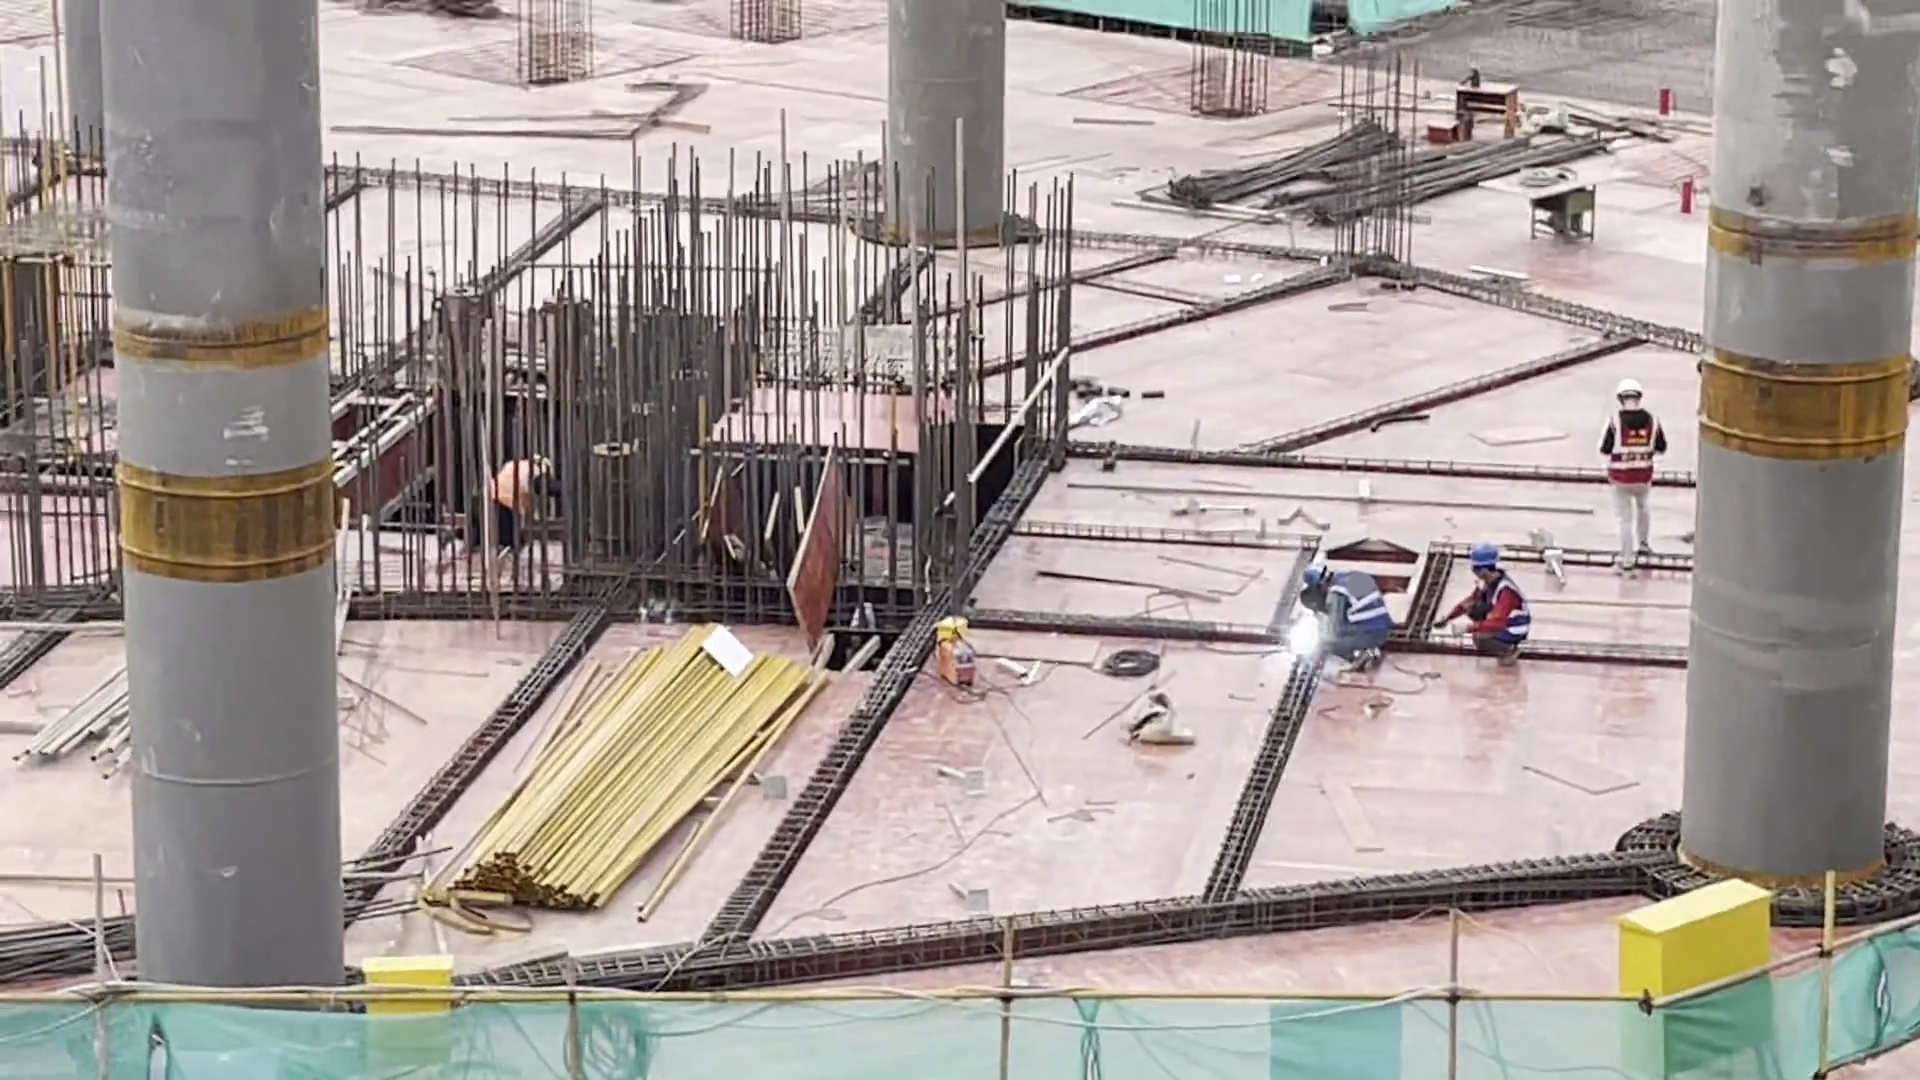helmet: (1470, 542, 1499, 568), (1303, 560, 1328, 587), (1615, 378, 1642, 399)
person: (1600, 373, 1669, 588), (1428, 539, 1531, 668), (1308, 557, 1395, 676), (475, 445, 560, 546)
vest: (1325, 571, 1397, 640), (1603, 408, 1661, 487), (1474, 573, 1535, 645)
